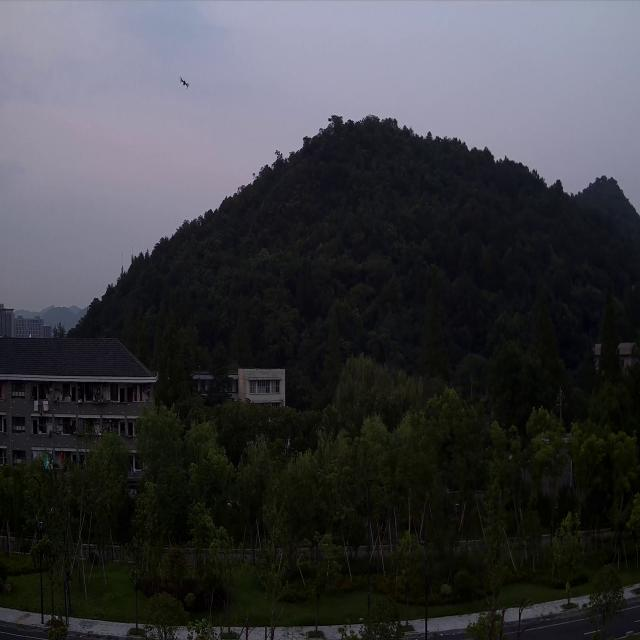UAV: (179, 76, 189, 89)
